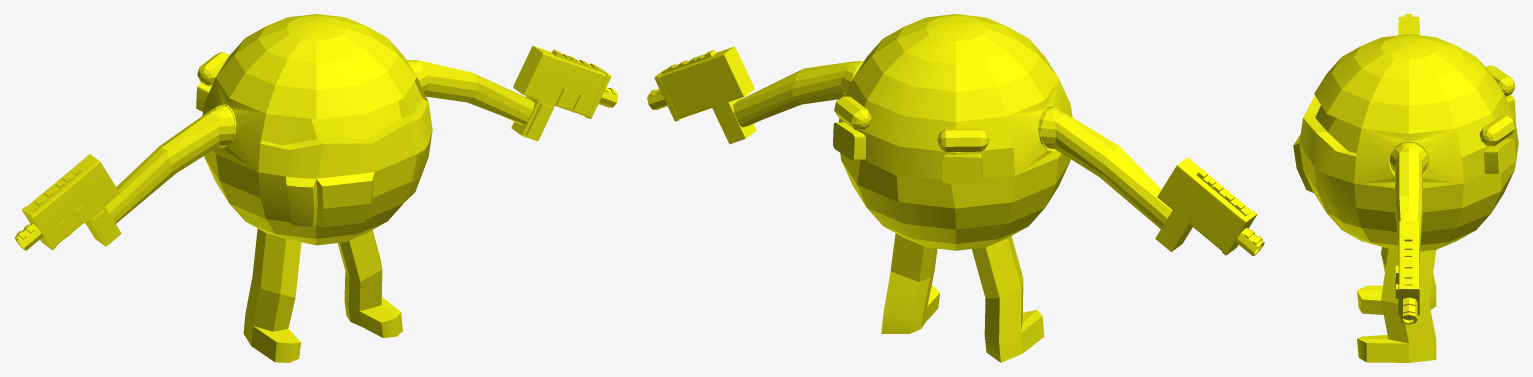
Rendered from mo_EnnemieRobot02.fbx.
3 renders of one model, left to right at view 1: azimuth 30°, elevation 25°; view 2: azimuth 150°, elevation 25°; view 3: azimuth 270°, elevation 25°, orthographic. The views are drawn at different scales.
Visible parts, largest first — view 1: scn_Robot:scn_Robot:Body, scn_Robot:Arme, scn_Robot:scn_Robot:arm, scn_Robot:bagback; view 2: scn_Robot:scn_Robot:Body, scn_Robot:Arme, scn_Robot:scn_Robot:arm, scn_Robot:BagBack_2, scn_Robot:bagback; view 3: scn_Robot:scn_Robot:Body, scn_Robot:Arme, scn_Robot:scn_Robot:arm, scn_Robot:bagback, scn_Robot:BagBack_2.
Boxes of the visible parts, x1=… form: scn_Robot:scn_Robot:Body: x1=202, y1=14, x2=432, y2=362; scn_Robot:Arme: x1=14, y1=46, x2=618, y2=250; scn_Robot:scn_Robot:arm: x1=105, y1=60, x2=534, y2=223; scn_Robot:bagback: x1=197, y1=52, x2=229, y2=85; scn_Robot:scn_Robot:Body: x1=838, y1=14, x2=1072, y2=362; scn_Robot:Arme: x1=647, y1=46, x2=1264, y2=255; scn_Robot:scn_Robot:arm: x1=733, y1=61, x2=1172, y2=228; scn_Robot:BagBack_2: x1=833, y1=122, x2=982, y2=183; scn_Robot:bagback: x1=834, y1=96, x2=988, y2=151; scn_Robot:scn_Robot:Body: x1=1293, y1=34, x2=1518, y2=362; scn_Robot:Arme: x1=1395, y1=14, x2=1419, y2=324; scn_Robot:scn_Robot:arm: x1=1389, y1=142, x2=1428, y2=263; scn_Robot:bagback: x1=1479, y1=65, x2=1515, y2=146; scn_Robot:BagBack_2: x1=1484, y1=94, x2=1515, y2=173.
Size of the model in its own units: 669 by 326 by 231.
